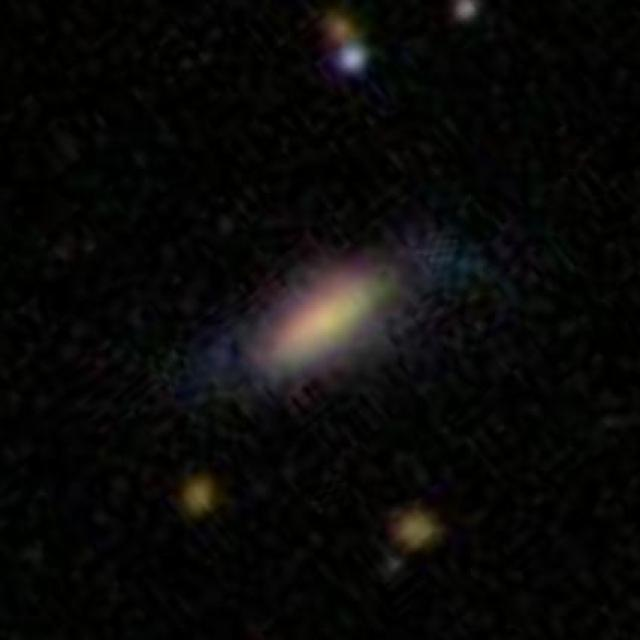galaxy: (158, 219, 501, 434), (383, 501, 452, 556), (318, 6, 370, 54), (175, 474, 224, 518), (332, 40, 375, 82), (449, 1, 483, 30), (379, 553, 409, 576)
